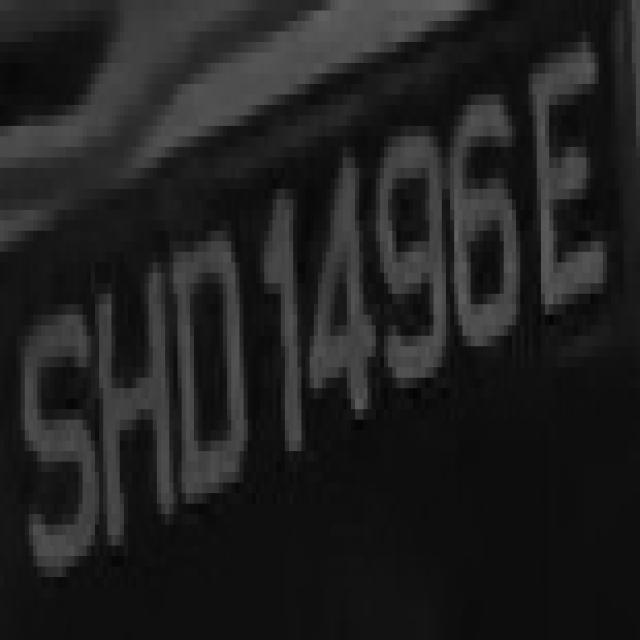1: (252, 199, 305, 493)
4: (297, 168, 376, 472)
6: (442, 53, 520, 388)
9: (372, 95, 462, 451)
D: (161, 199, 248, 504)
E: (524, 42, 611, 367)
H: (86, 262, 178, 567)
S: (21, 284, 95, 608)
